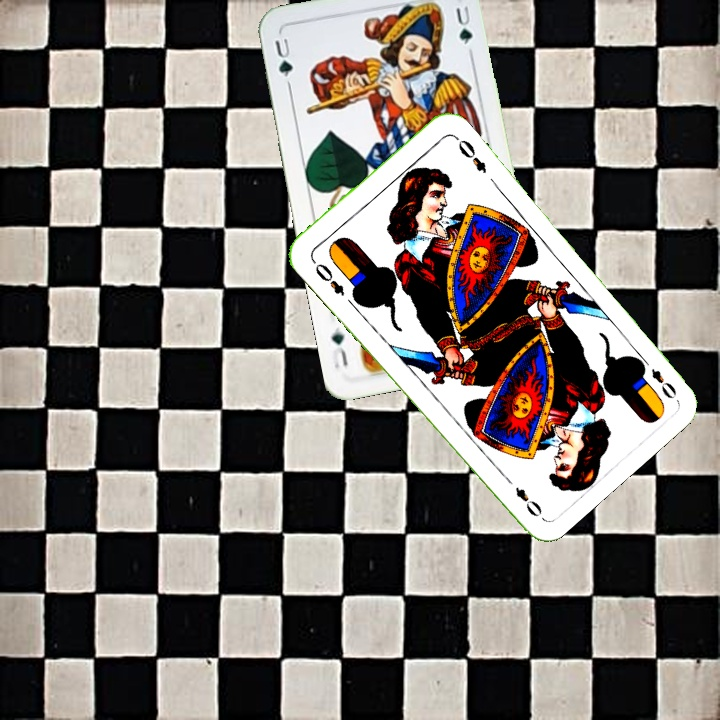EO: (310, 259, 347, 299), (647, 365, 680, 402)
GU: (270, 33, 296, 90)
